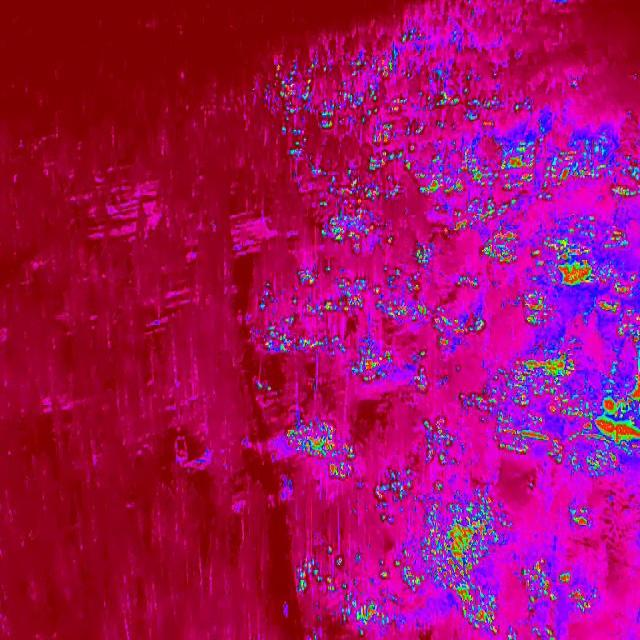fire: (266, 34, 536, 246), (246, 248, 489, 394), (483, 354, 639, 476), (395, 486, 506, 636), (294, 550, 400, 638), (531, 211, 637, 287), (511, 558, 592, 638), (535, 146, 640, 200), (285, 415, 358, 483), (600, 283, 640, 352), (416, 414, 462, 468), (478, 227, 527, 267), (521, 286, 551, 326), (564, 501, 592, 533)
